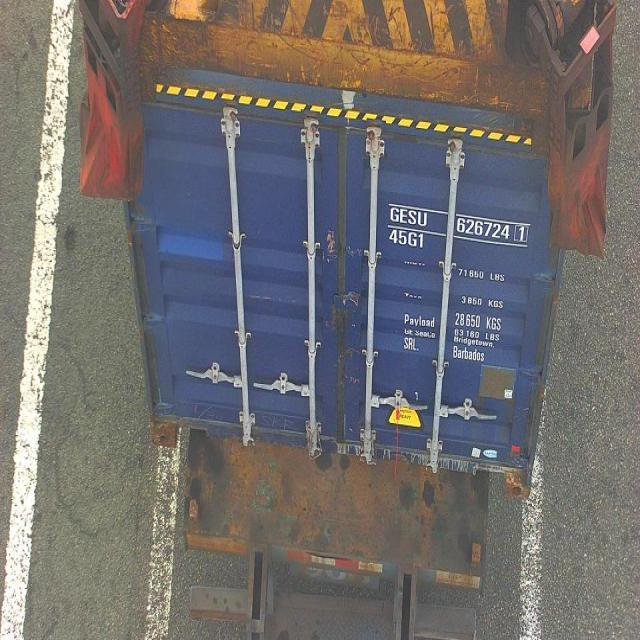ISO: (389, 228, 426, 250)
container_number: (390, 203, 528, 239)
